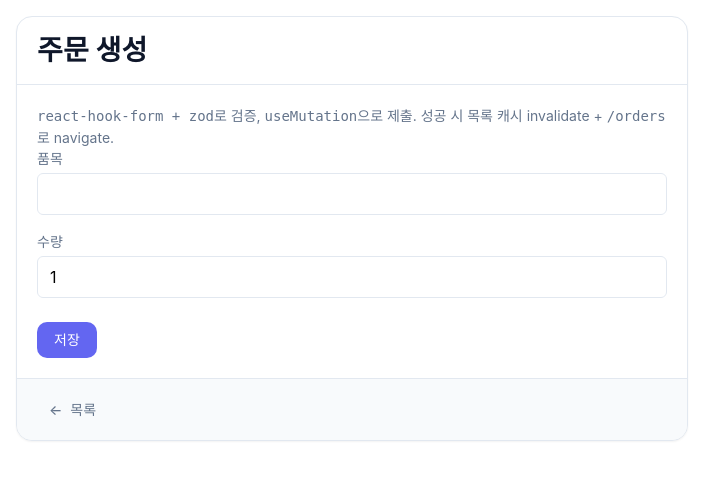
OrderNewPage › 서버가 5xx 응답이면 에러 메시지를 폼 안에 표시한다
Type "맥미니" into the field labelled "품목" at (352, 194), box x1=37 y1=173 x2=667 y2=215
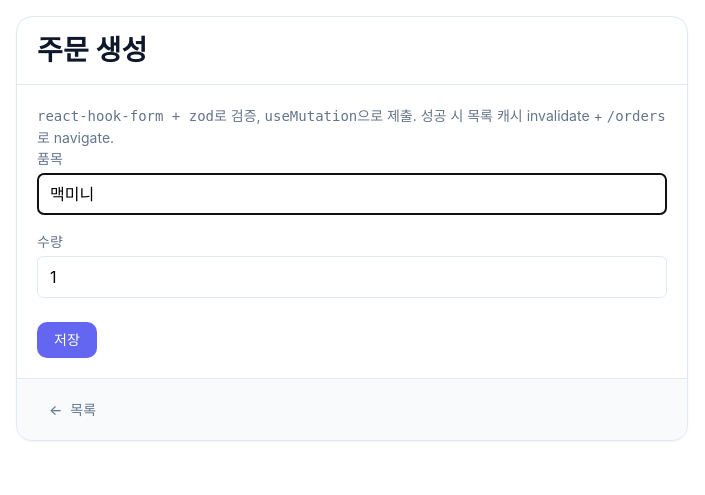
Click the button "저장" at (67, 340), box x1=37 y1=322 x2=97 y2=358
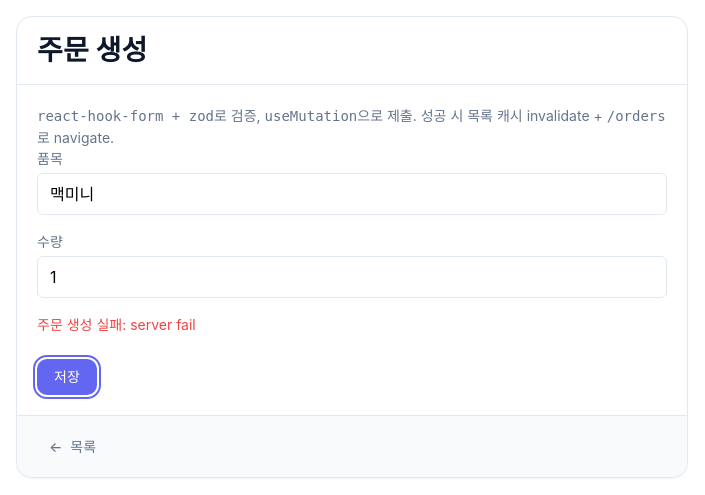
Expected: the heading "주문 생성" is shown, x1=37 y1=33 x2=147 y2=67
Now the text "주문 생성 실패: server fail" is shown, box x1=37 y1=316 x2=196 y2=333
